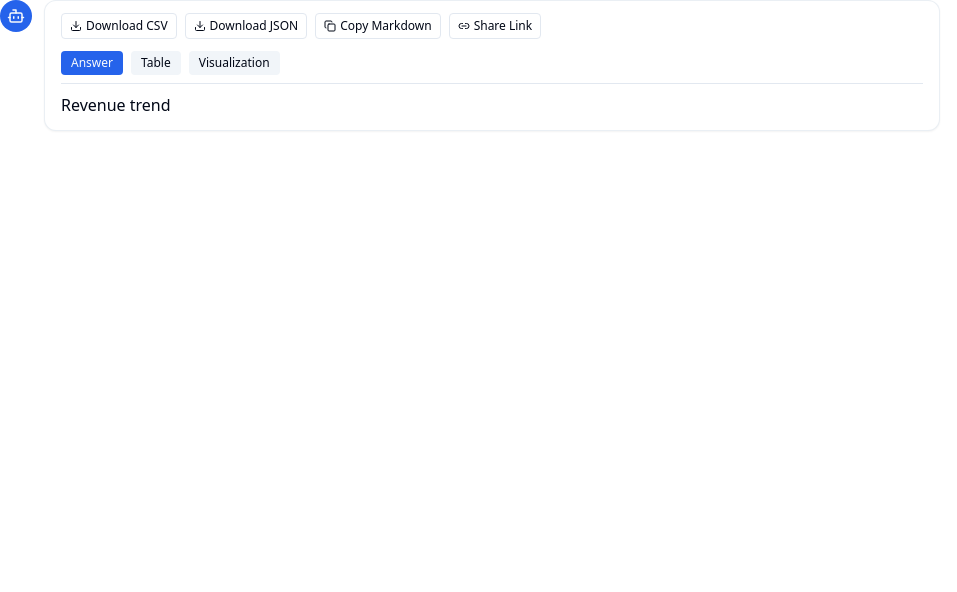
Test: Message › renders axis and legend metadata for line visualization
Click the tab "Visualization".
click(234, 63)  # box [189,51,280,75]
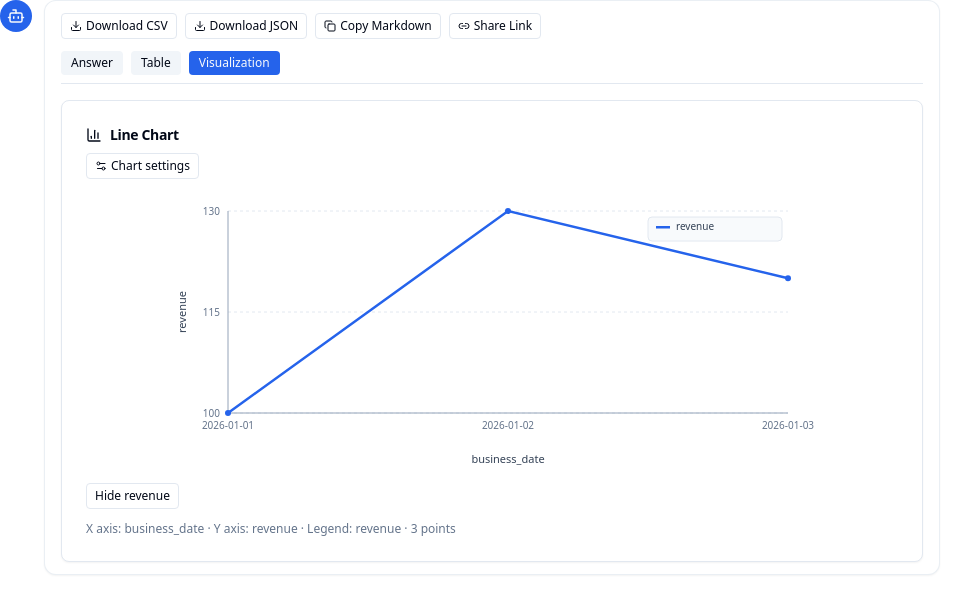
Expected: the text "Line Chart" is shown, [86,125,179,144]
Expected: the text "X axis:" is shown, [86,520,124,537]
Expected: the text "Y axis:" is shown, [204,520,252,537]
